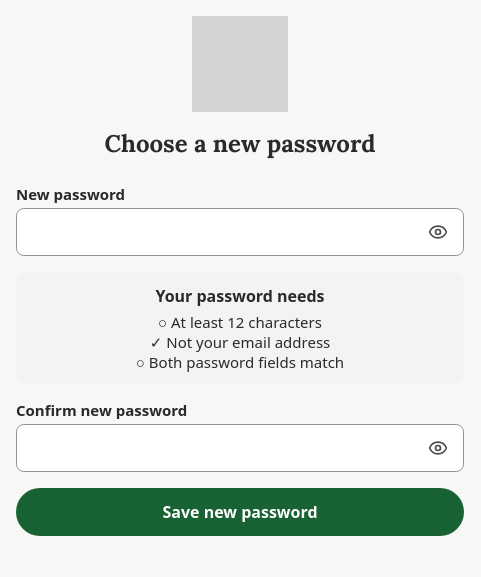
Test: reset submission › keeps the form and allows resubmission for auth/weak-password
The image size is (481, 577).
Type "a-long-password" into the password field labelled "New password" at coordinates (240, 232), box [16,208,464,256]
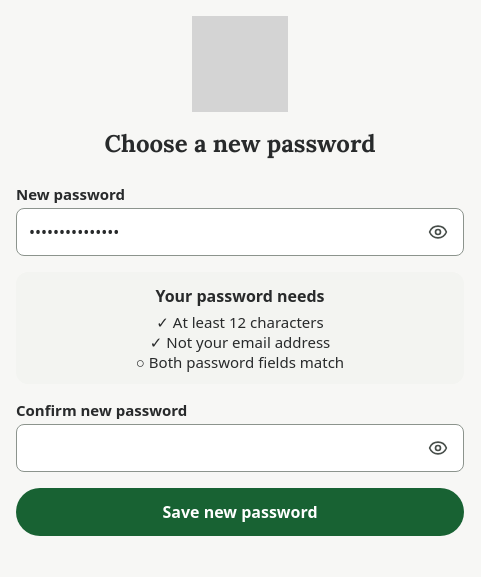
Type "a-long-password" into the password field labelled "Confirm new password" at coordinates (240, 448), box [16,424,464,472]
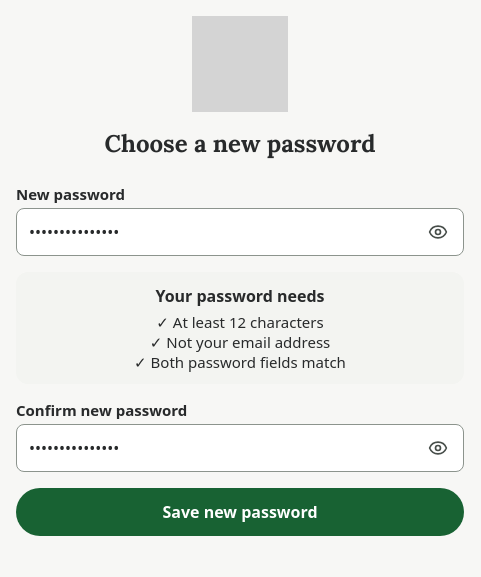
Click the button "Save new password" at coordinates (240, 512), box [16,488,464,536]
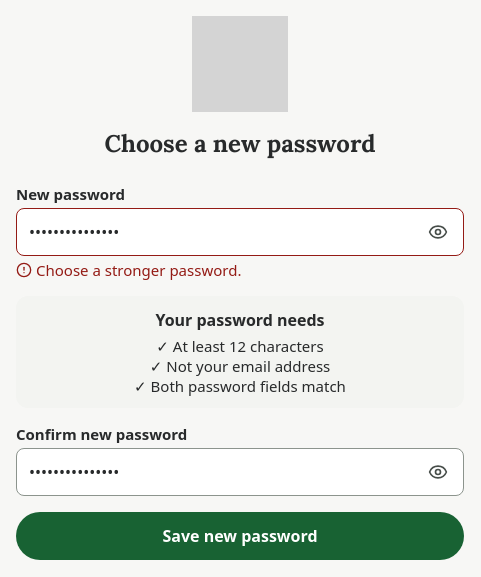
Result: the text "Choose a stronger password." is shown at [16,260,241,280]
Click the button "Save new password" at coordinates (240, 536), box [16,512,464,560]
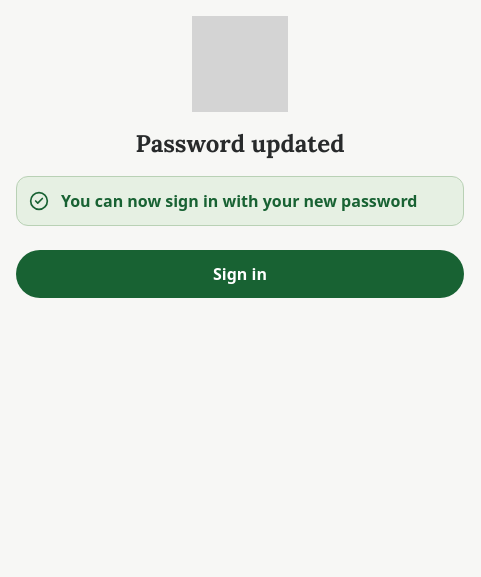
Result: the heading "Password updated" is shown at [136,128,344,159]
